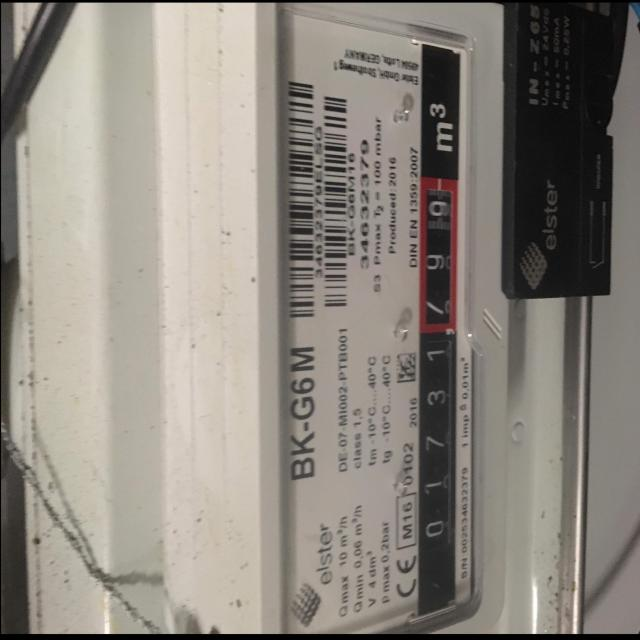gaz_meter: (274, 6, 480, 626)
indication: (421, 179, 458, 614)
